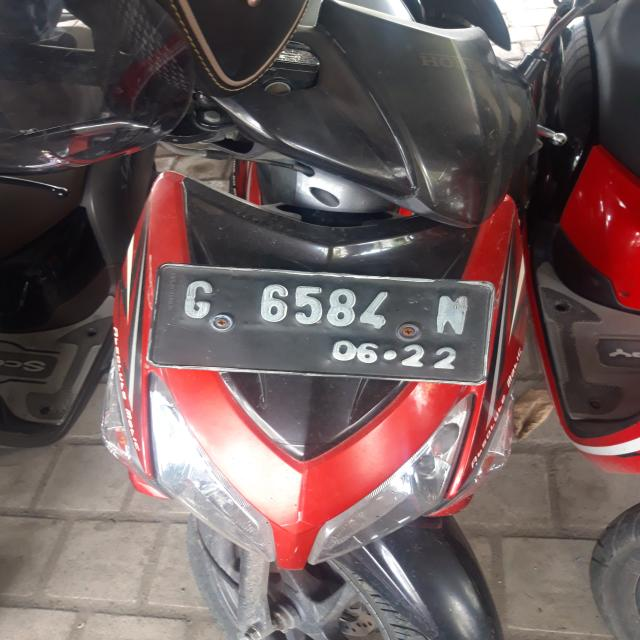plate: (153, 265, 488, 386)
